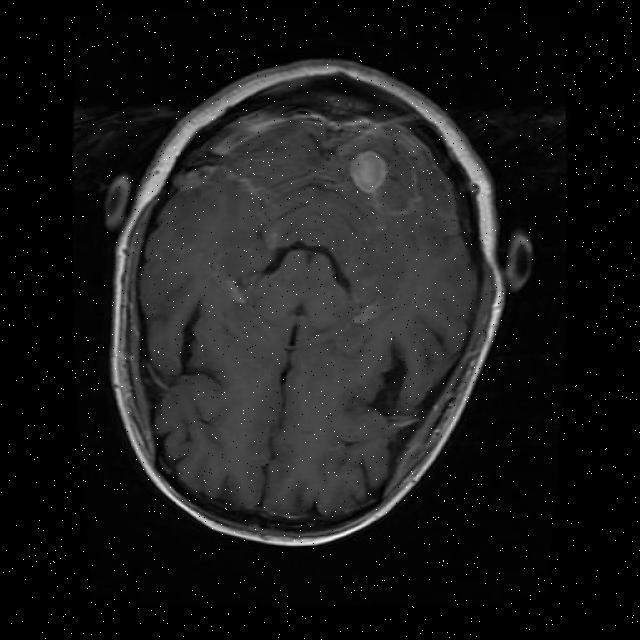Meningioma: (350, 151, 387, 194)
